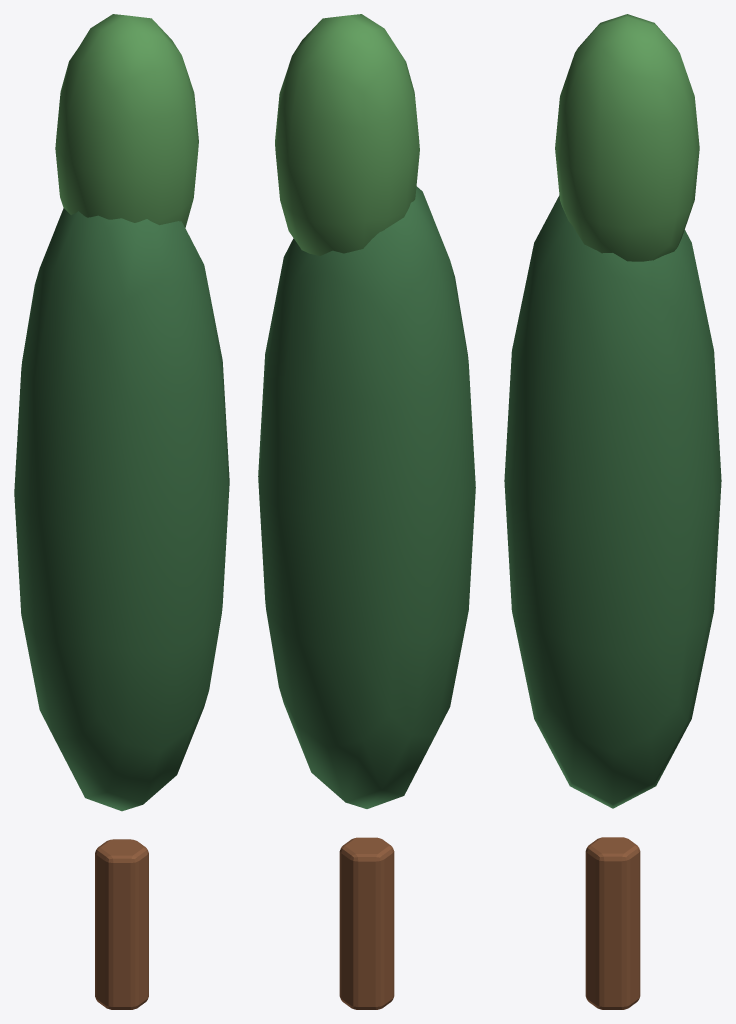
File: tree_cypress.glb
3 views of the same model, side by side, from view 1: azimuth 30°, elevation 25°; view 2: azimuth 150°, elevation 25°; view 3: azimuth 270°, elevation 25° (orthographic).
Parts seen in each view (by area): view 1: tree_cypress; view 2: tree_cypress; view 3: tree_cypress.
Part boxes in pixels (x1,y1,x2,y2): tree_cypress: (14, 14, 229, 1009); tree_cypress: (258, 14, 475, 1009); tree_cypress: (504, 14, 721, 1009).
Size of the model in its own units: 0.7556 by 3.8 by 0.7556.
